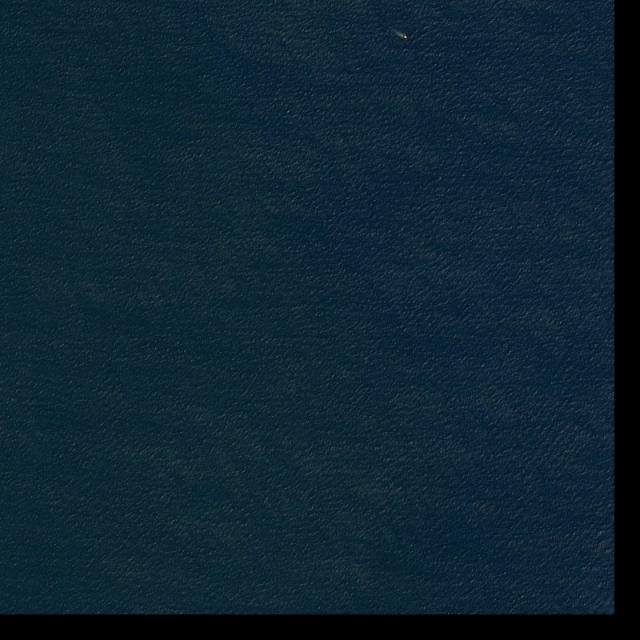ship: (401, 34, 409, 40)
